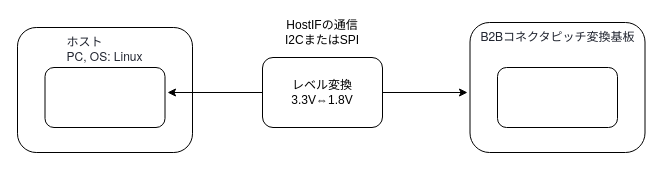
The diagram is 663 pixels wide and 170 high, and some of its shapes have lost their labels. The shapes that lost their labels are listed below. From the top down, each one's centre as x and y in pixels, then its label:
At pixel 104 97: "FTDI USB MPSSE ケーブル".
At pixel 557 97: "HostIF提供側 Spresense（Spresense SDK）".
